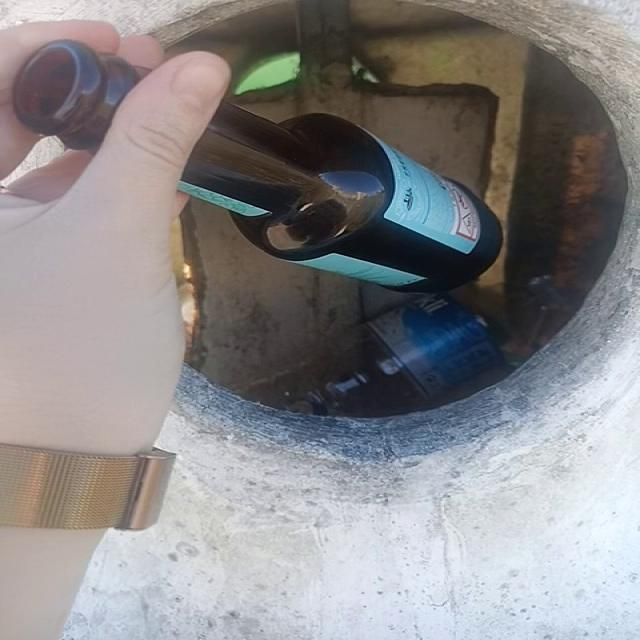Glass: (180, 103, 500, 292), (13, 40, 135, 148)
